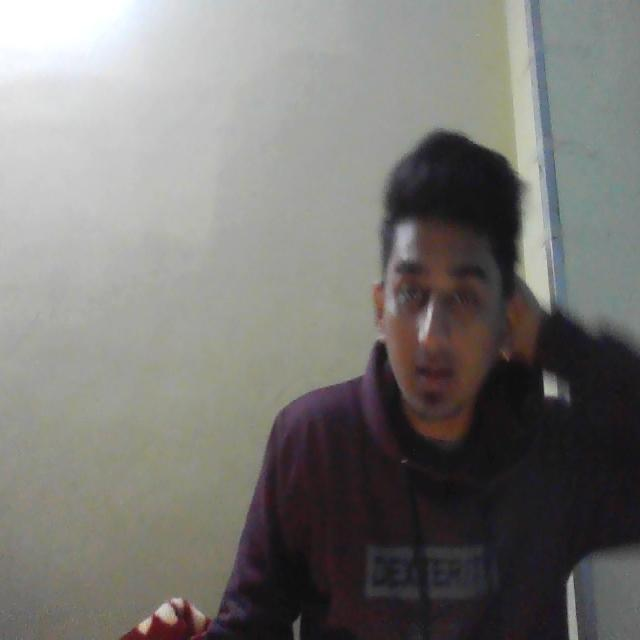real: (368, 142, 531, 450)
